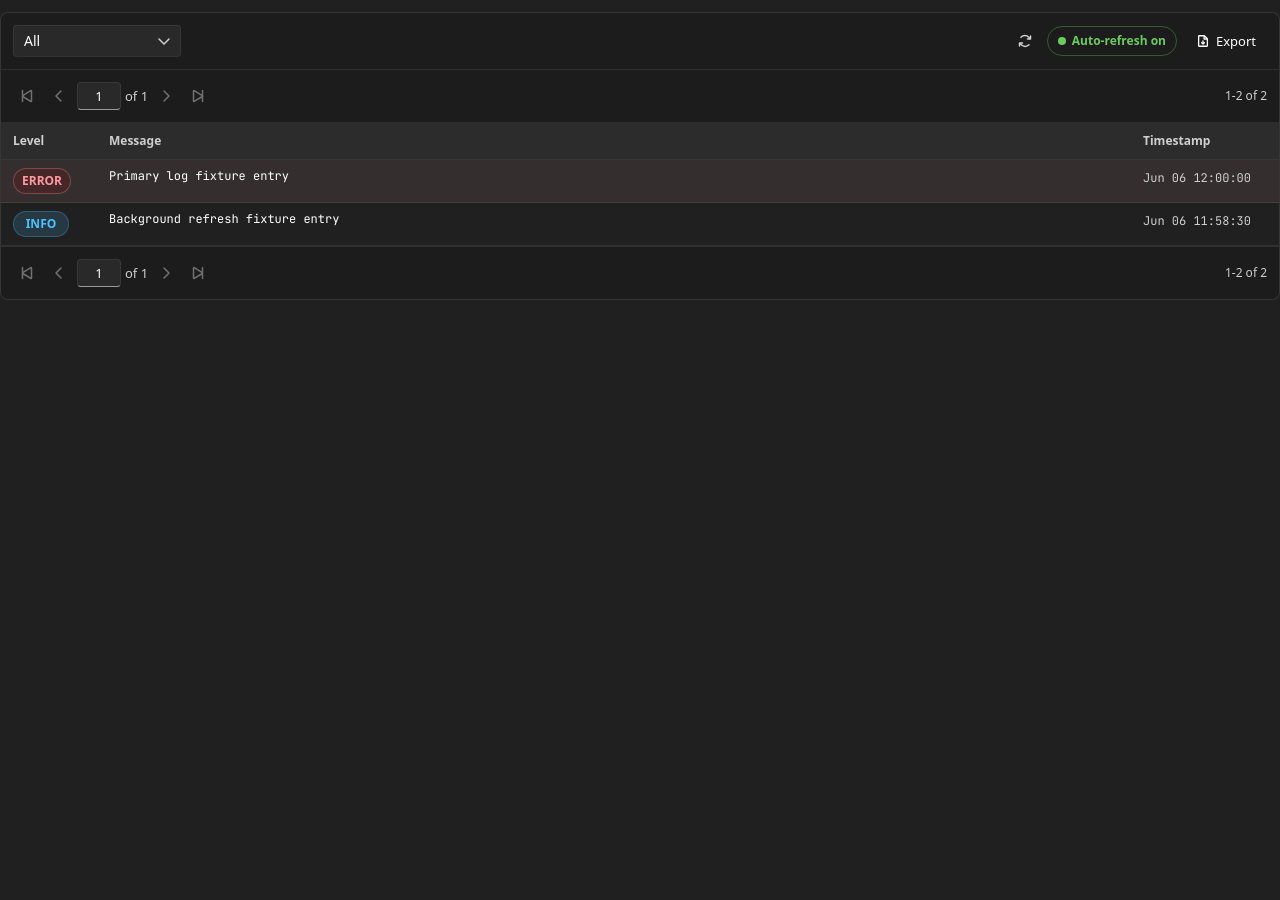
Test: LogViewer › opens the integrated export dialog from the toolbar
Expected: the text "Primary log fixture entry" is shown, [109, 168, 289, 184]
Click the button "Export": (1226, 41) [1185, 27, 1267, 55]
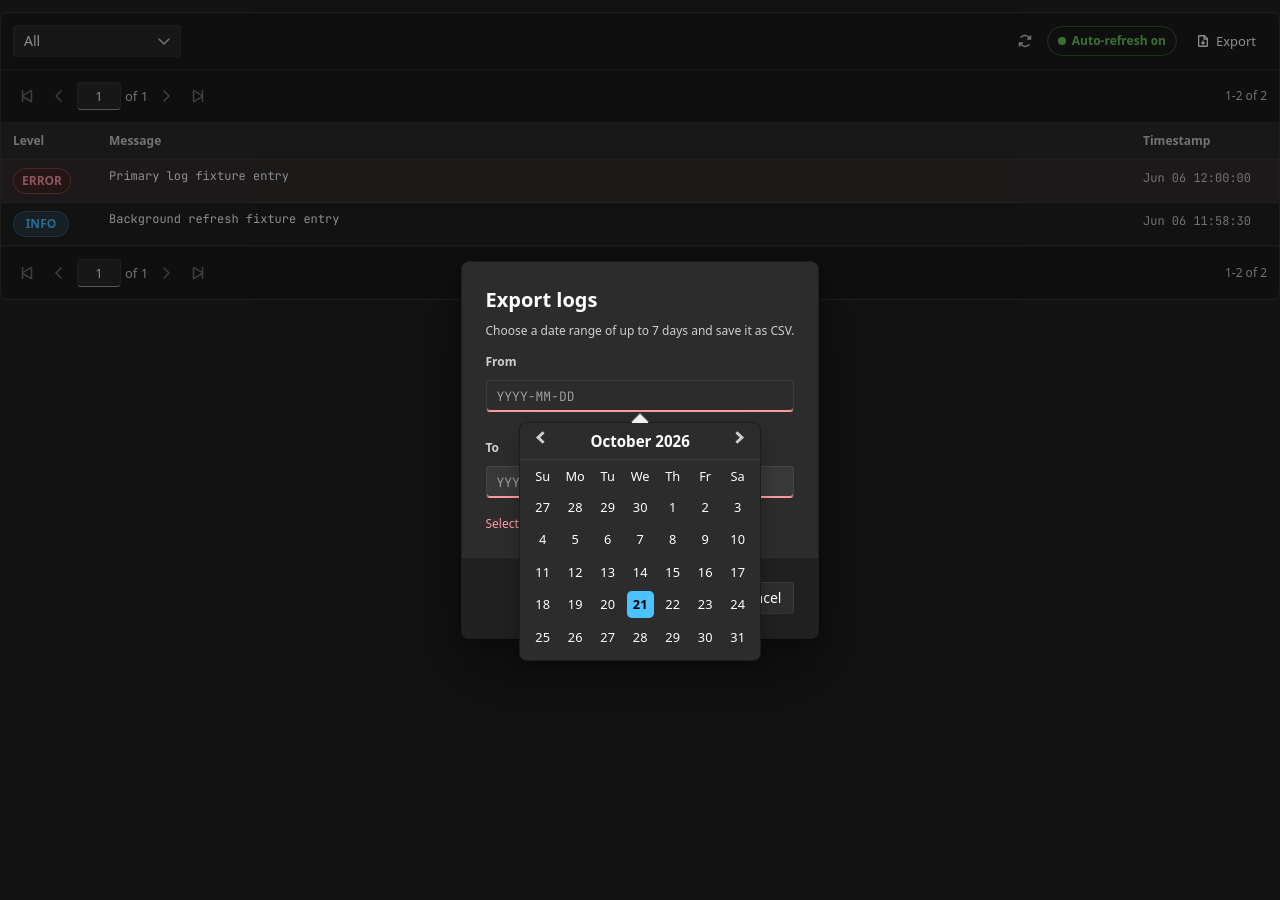
Now the dialog with test id "log-export-dialog" is shown
